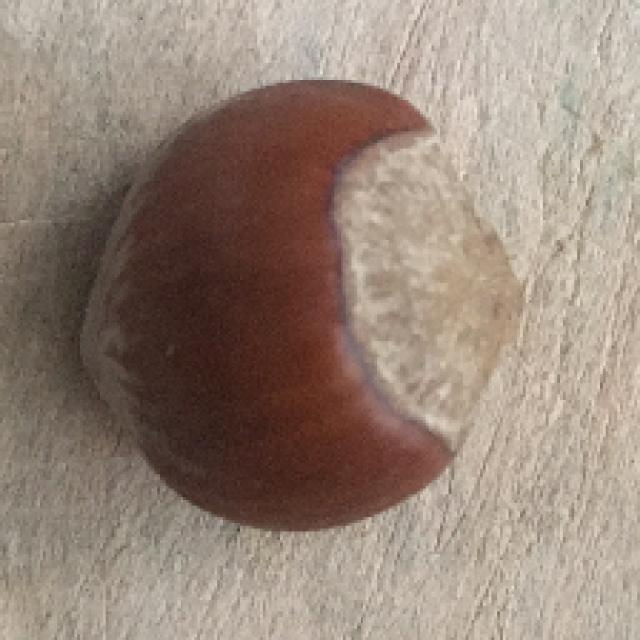qualityHazelnut: (81, 75, 523, 529)
